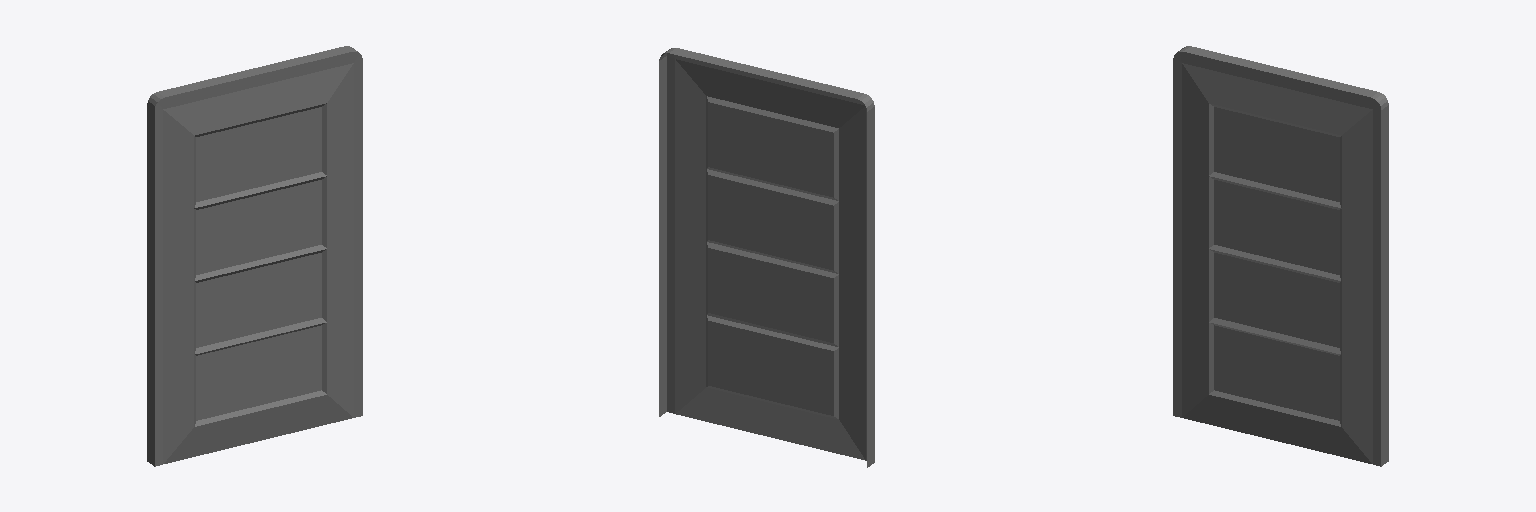
File: Door.obj
The picture shows the model from 3 angles: view 1: azimuth 30°, elevation 25°; view 2: azimuth 150°, elevation 25°; view 3: azimuth 330°, elevation 25°; orthographic projection.
Parts seen in each view (by area): view 1: polySurface43; view 2: polySurface43; view 3: polySurface43.
Boxes of the visible parts, <box> form: polySurface43: <box>147,46,362,466</box>; polySurface43: <box>659,48,874,467</box>; polySurface43: <box>1173,46,1388,466</box>.
Size of the model in its own units: 340 by 573 by 27.61.